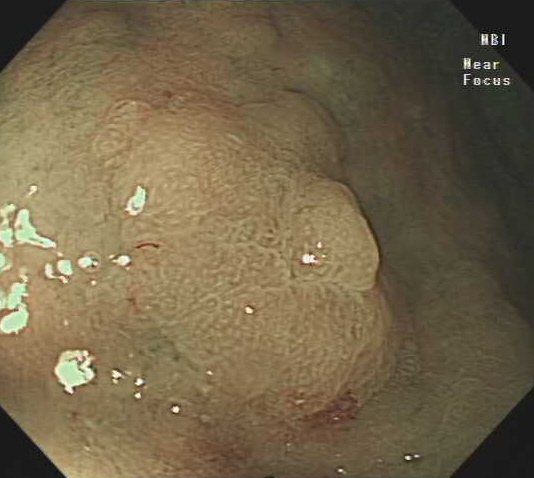others: (97, 89, 400, 412)
